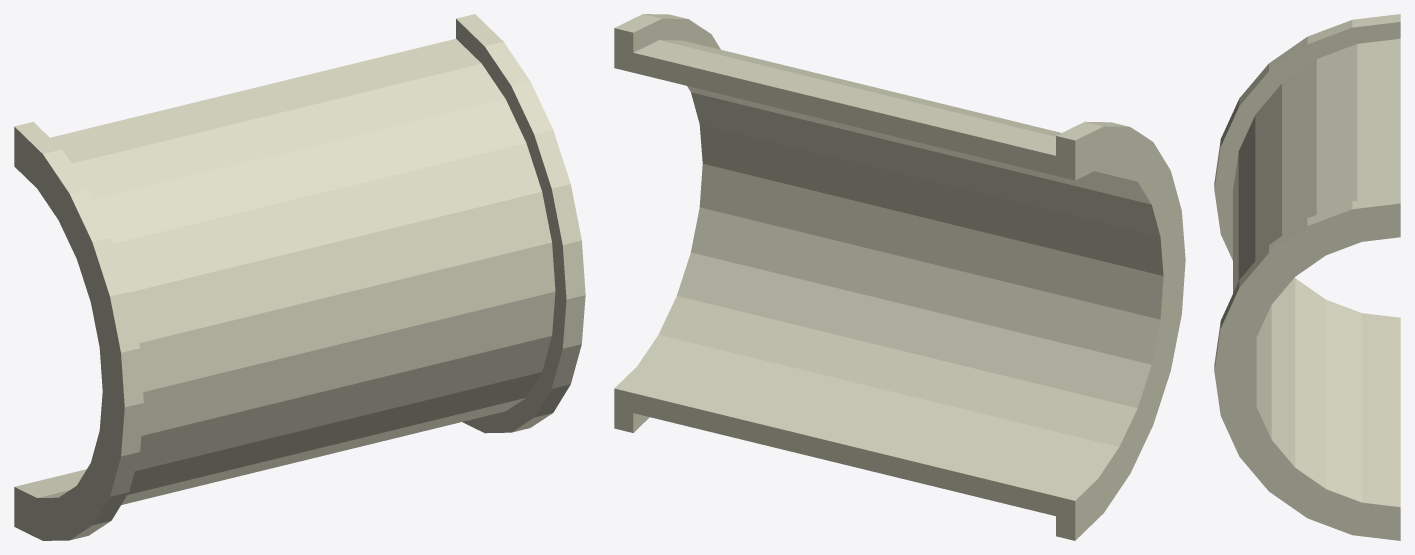
The model's file is section_229.obj.
3 views of the same model, side by side, from view 1: azimuth 30°, elevation 25°; view 2: azimuth 150°, elevation 25°; view 3: azimuth 270°, elevation 25° (orthographic). The views are drawn at different scales.
Size of the model in its own units: 24.09 by 20 by 10.
